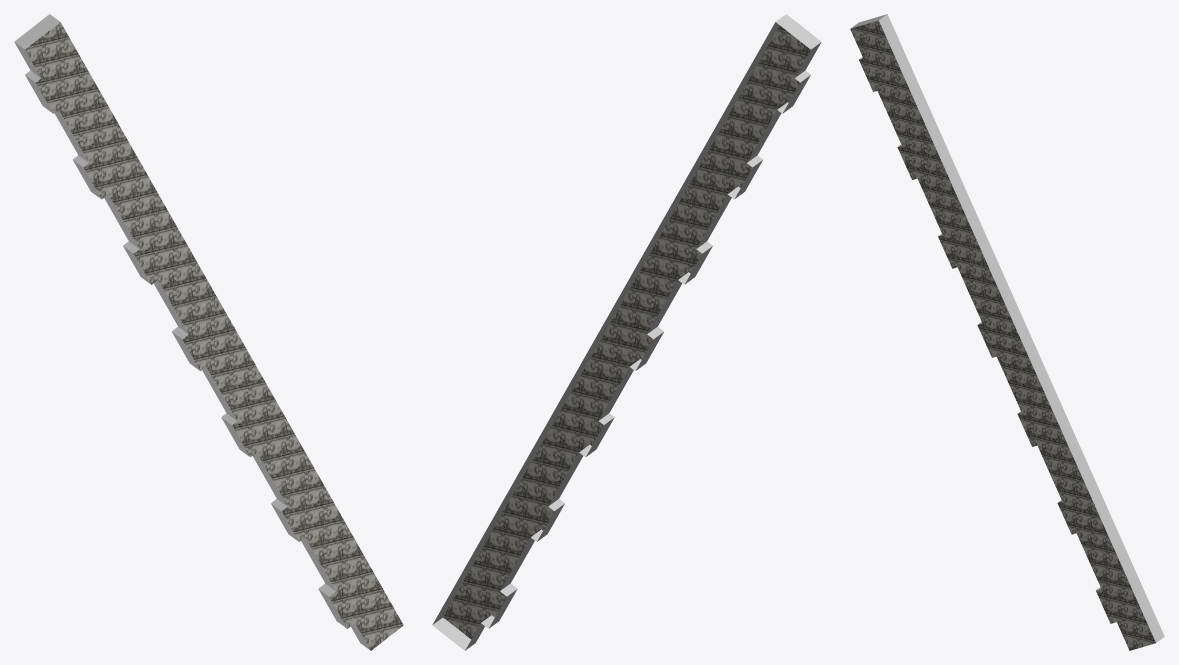
The model's file is geospecific_135.obj.
3 views of the same model, side by side, from view 1: azimuth 30°, elevation 25°; view 2: azimuth 150°, elevation 25°; view 3: azimuth 330°, elevation 25° (orthographic). The views are drawn at different scales.
Visible parts, largest first — view 1: Building; view 2: Building; view 3: Building.
Boxes of the visible parts, bbox=[...] form: Building: bbox=[14, 14, 403, 650]; Building: bbox=[432, 14, 821, 650]; Building: bbox=[850, 14, 1164, 650].
Size of the model in its own units: 60.5 by 108 by 3.
